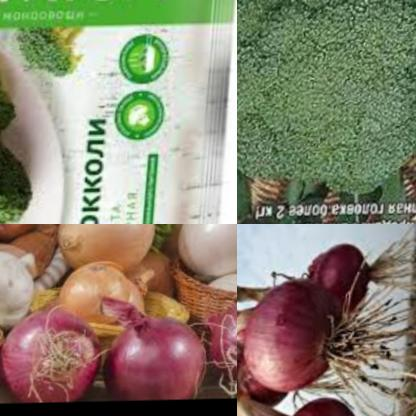broccoli: (237, 0, 416, 198), (6, 12, 92, 88), (0, 29, 37, 125)
onion: (237, 274, 355, 404), (0, 306, 110, 403), (107, 305, 216, 401), (57, 253, 149, 333), (58, 224, 166, 279), (308, 241, 369, 325), (0, 226, 49, 326), (183, 224, 237, 283), (205, 293, 237, 366), (209, 260, 237, 310)
